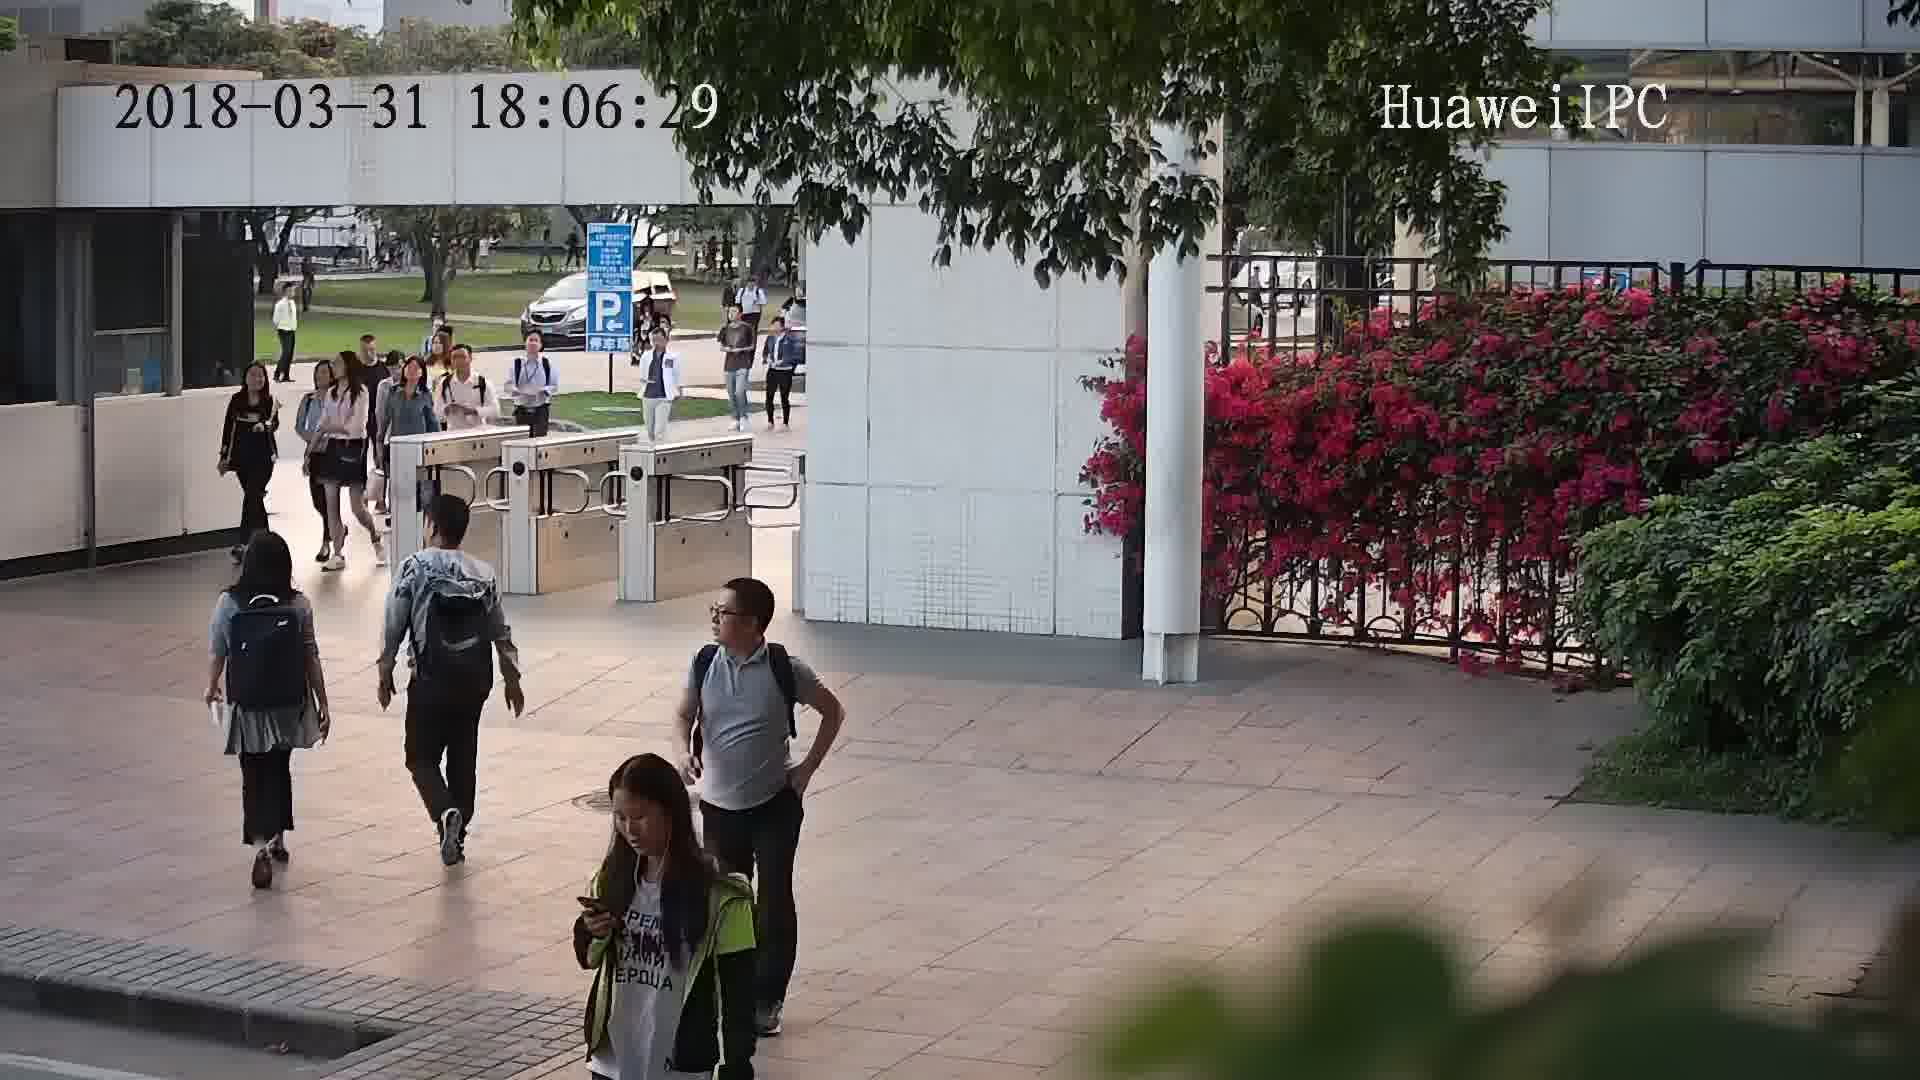face: (605, 788, 675, 857), (700, 586, 758, 643)
person: (598, 748, 723, 899), (689, 570, 805, 692), (401, 492, 498, 594), (214, 527, 316, 622), (324, 348, 373, 407), (229, 358, 281, 412), (386, 352, 433, 403), (446, 341, 491, 393), (299, 356, 338, 411), (514, 326, 556, 371), (641, 321, 680, 368), (371, 351, 410, 393), (351, 332, 389, 375), (723, 302, 757, 334), (767, 313, 799, 345), (274, 278, 301, 309)
